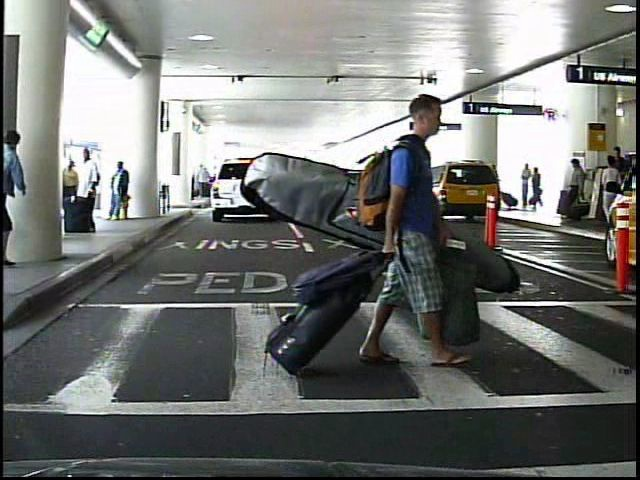person: (357, 83, 463, 378), (76, 146, 102, 237), (592, 154, 619, 231), (106, 160, 132, 226), (562, 157, 586, 225), (59, 158, 79, 231), (608, 142, 624, 226), (518, 162, 533, 210), (530, 167, 540, 211)
